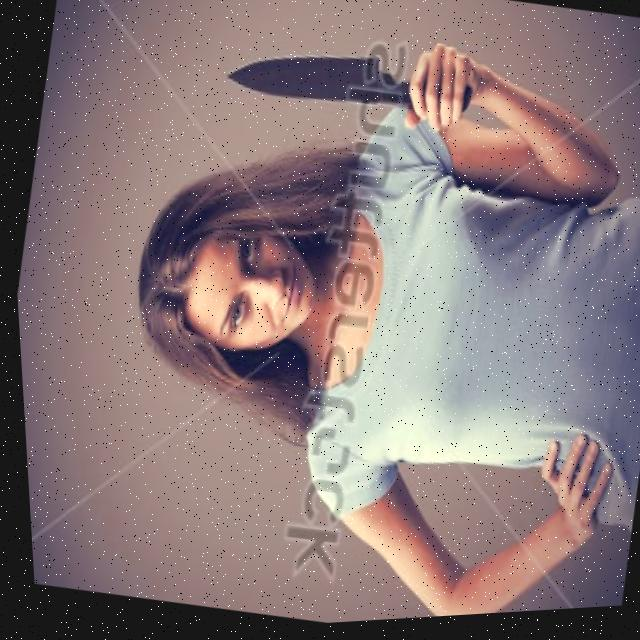knife: (216, 30, 417, 131)
